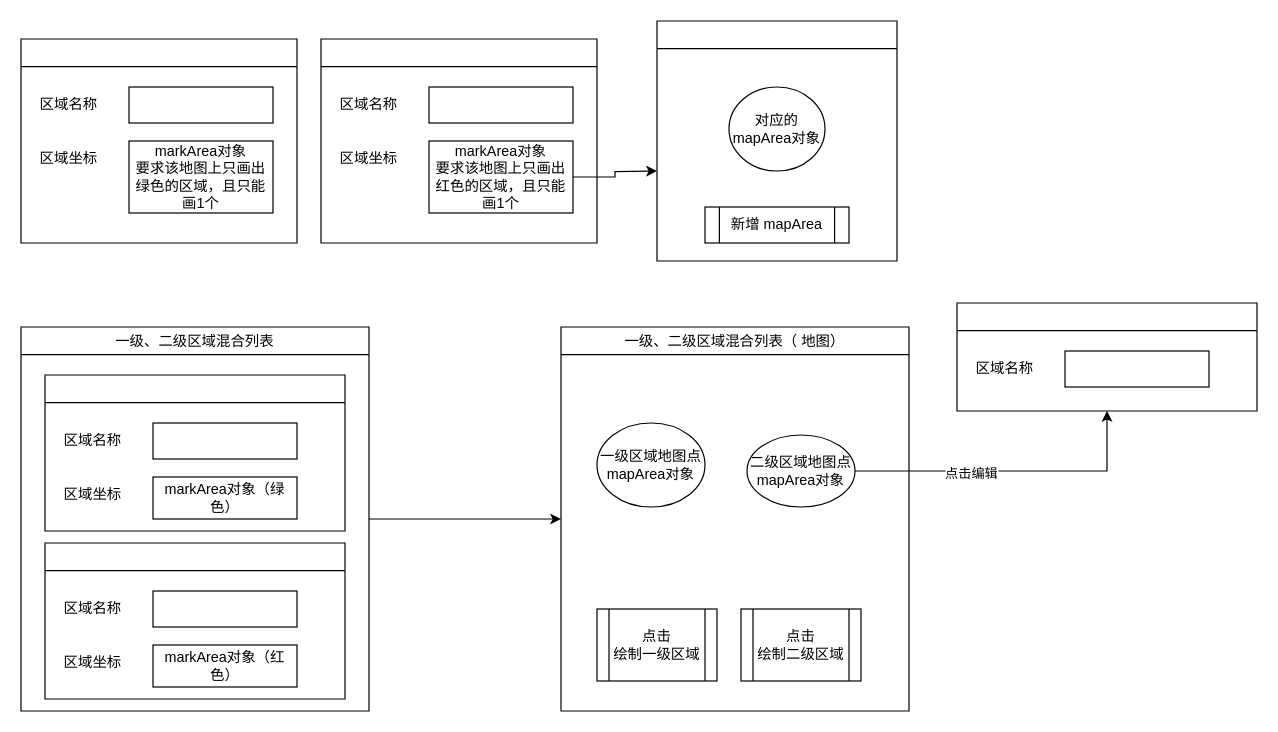
Some shapes in this 1278 by 732 pixel diagram are drawn without their labels. Here are the shapes that lost their labels. From the top down, the box of each, then its label:
(20, 38, 297, 243): 新增一级区域
(320, 38, 597, 243): 新增二级区域
(656, 20, 897, 261): 地图
(956, 302, 1257, 411): 编辑 二级区域
(44, 374, 345, 531): 一级区域
(44, 542, 345, 699): 二级区域
